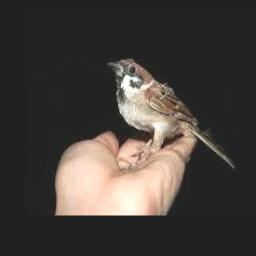Sparrow: (106, 57, 235, 167)
